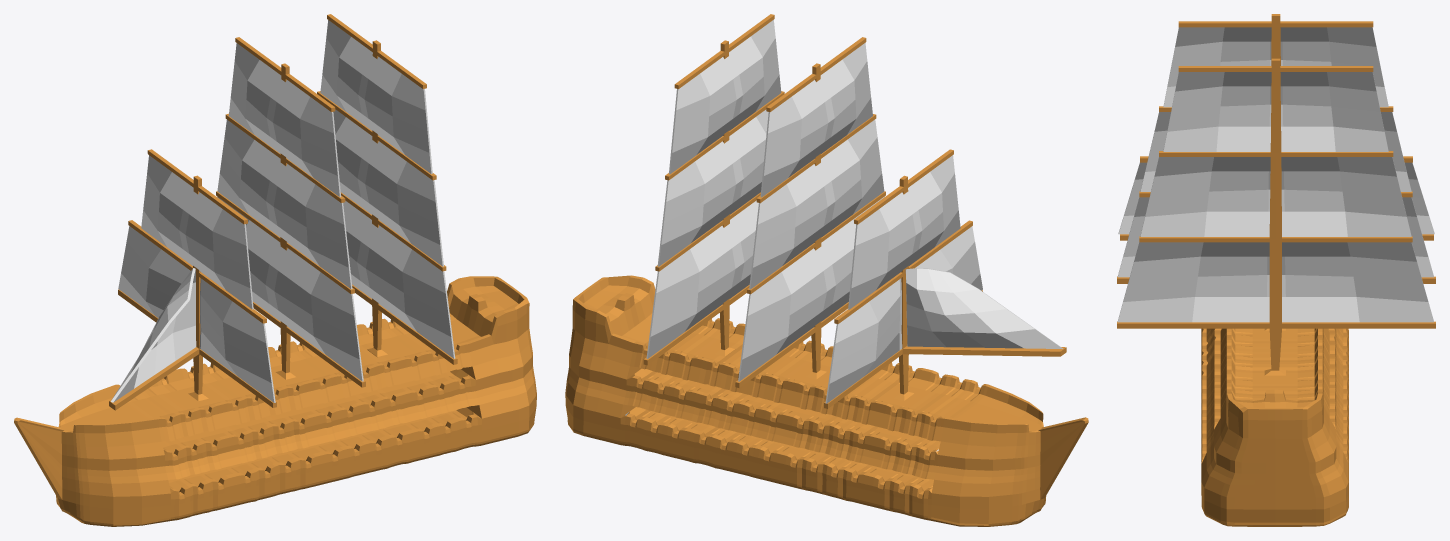
The model's file is galleon.glb.
The picture shows the model from 3 angles, left to right: view 1: azimuth 30°, elevation 25°; view 2: azimuth 150°, elevation 25°; view 3: azimuth 270°, elevation 25°; orthographic projection.
Parts seen in each view (by area): view 1: Cube; view 2: Cube; view 3: Cube.
Boxes of the visible parts, x1,y1,x2,y2 form: Cube: (14,14,536,526); Cube: (565,14,1088,526); Cube: (1117,14,1435,526).
Size of the model in its own units: 47.19 by 36.15 by 25.7.
